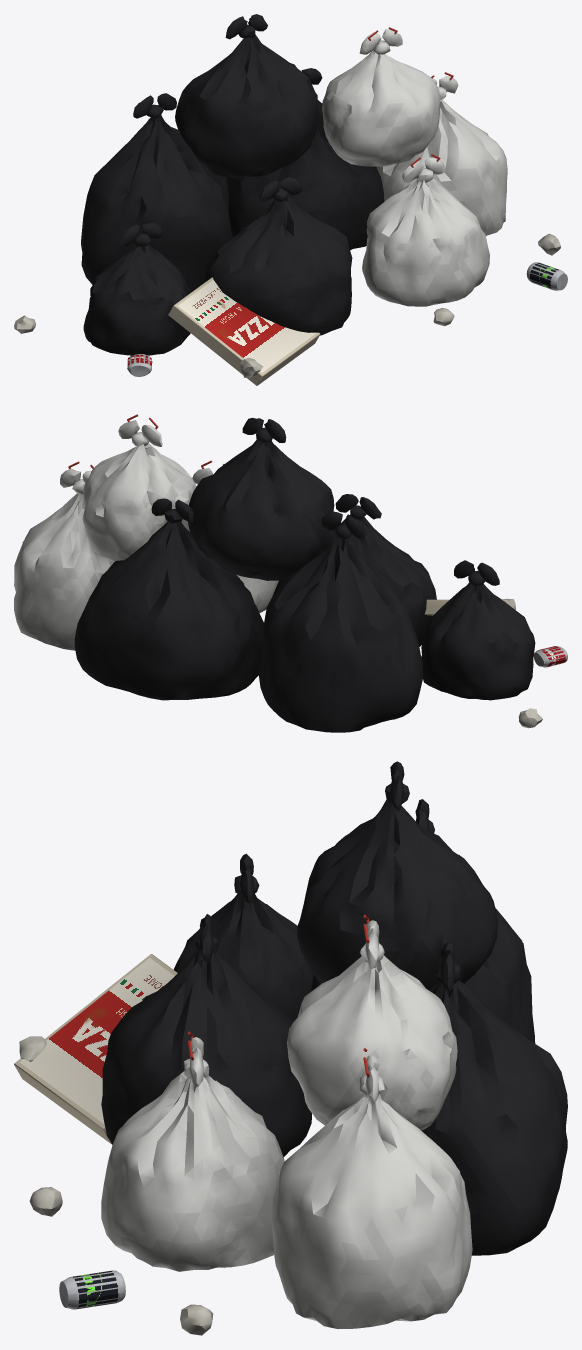
File: trash_heap.glb
3 views of the same model, one above another, from view 1: azimuth 30°, elevation 25°; view 2: azimuth 150°, elevation 25°; view 3: azimuth 270°, elevation 25° (orthographic). The views are drawn at different scales.
Parts seen in each view (by area): view 1: body, panels; view 2: body; view 3: body, panels.
Boxes of the visible parts, <box> form: body: <box>14,14,567,385</box>; panels: <box>127,262,559,372</box>; body: <box>14,414,567,732</box>; body: <box>14,761,567,1335</box>; panels: <box>19,958,174,1309</box>.
Size of what is drawn, in the model's own units: 1.77 by 0.8708 by 1.1.
Materials: 7 (1 with a texture image).
